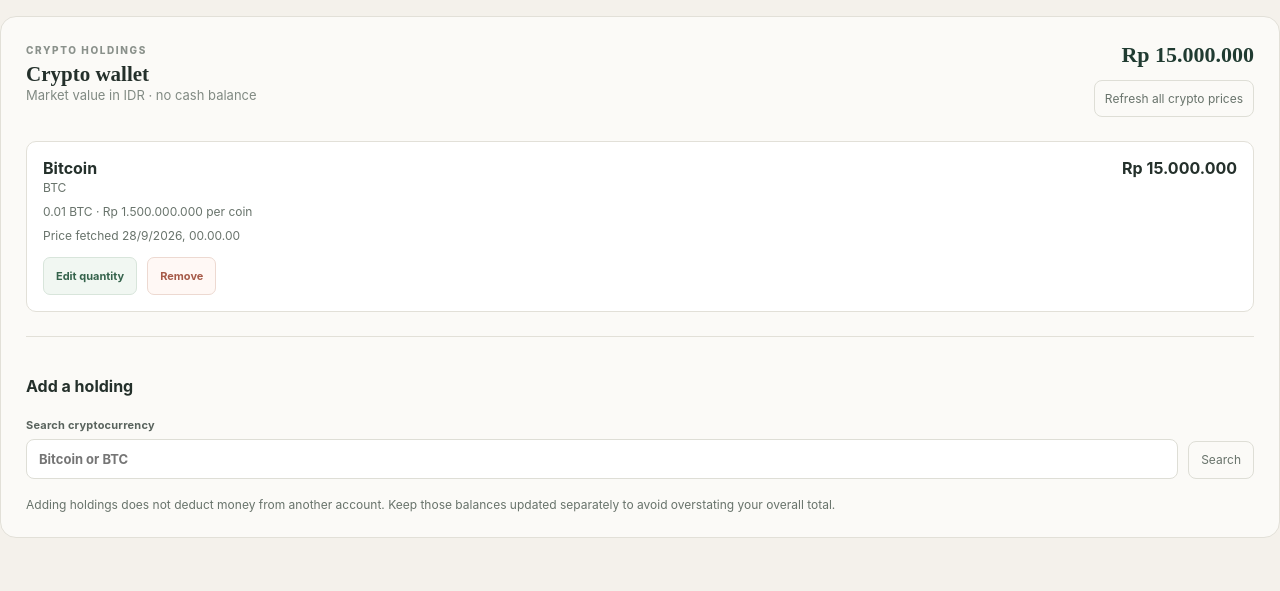
it: updates cached holdings for other wallets without separate holding reads
expect the text "0.01 BTC" is shown: met, box [43,204,252,219]
What coordinates should you click on to do the following:
click the button "Refresh all crypto prices"
I would click on:
 (1174, 98)
Its box is [1094,80,1254,117].
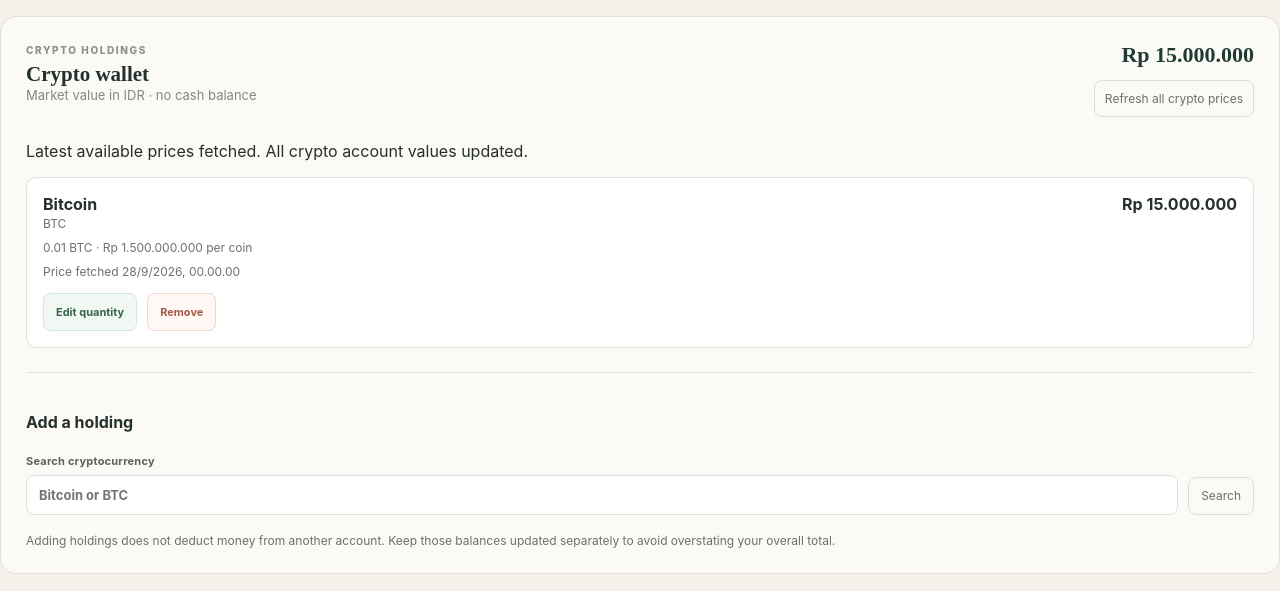
expect the text "Latest available prices fetched. All crypto account values updated." is shown: met, box [26,141,528,161]
